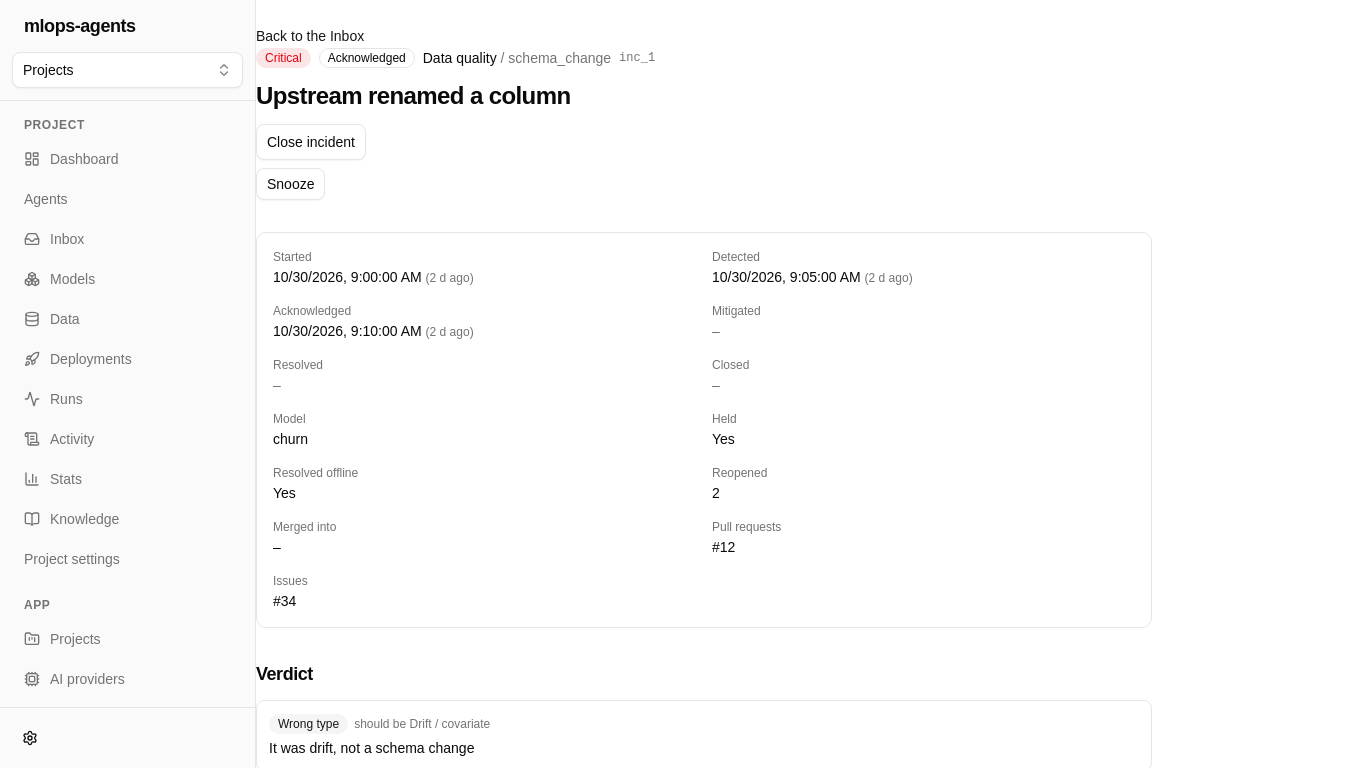
it: IncidentPage › closes the incident as a separate person action and shows a refusal as is
What coordinates should you click on to do the following:
click the button "Close incident"
I would click on:
 (311, 142)
Its box is [256,124,366,160].
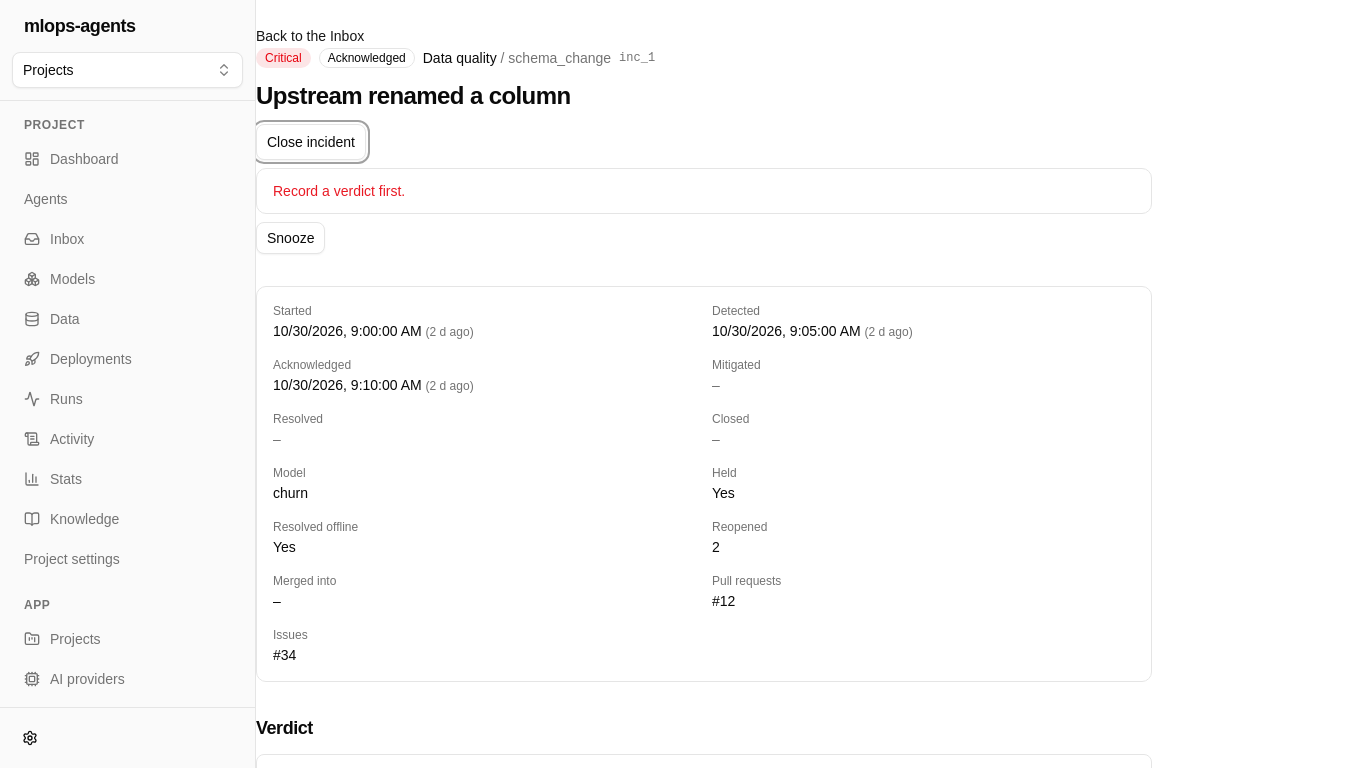
Expected: the text "Record a verdict first." is shown, [273,183,405,199]
